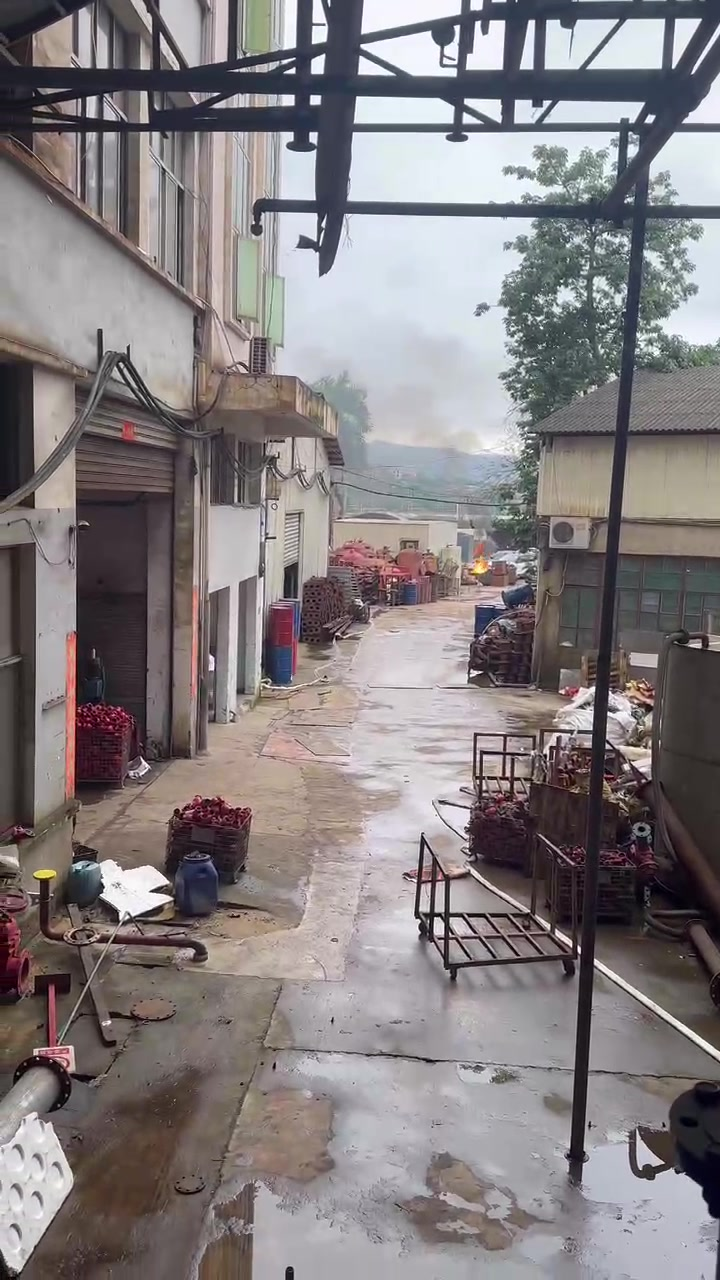fire: (470, 555, 489, 572)
